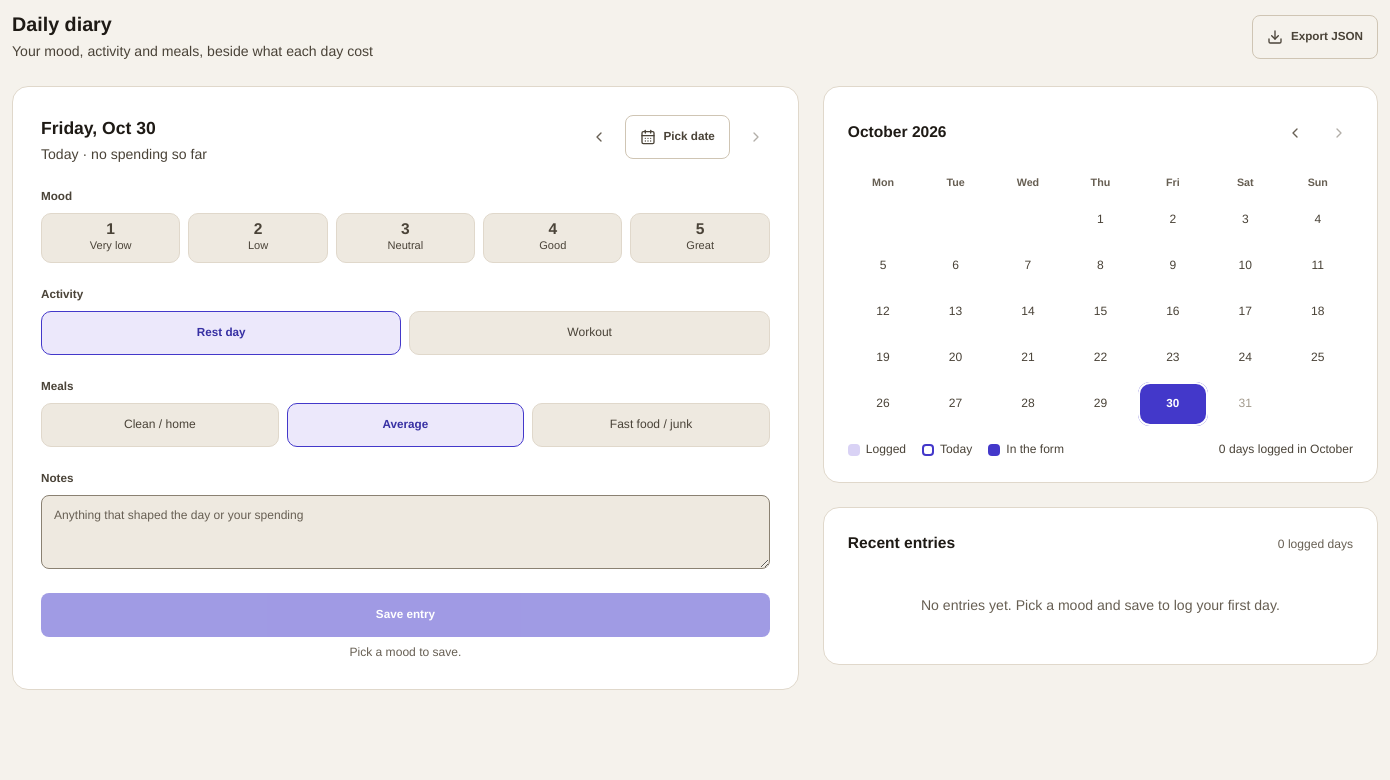
Scenario: the entry form › starts a day with no entry with no mood, a rest day, average meals and an empty note, and waits for a mood
Check: the text box with id "diary-notes-textarea" is empty, box top-left (41, 495), bottom-right (770, 569)
Check: the button with id "diary-save-entry-btn" reads "Save entry", box top-left (41, 593), bottom-right (770, 637)
Click the button with id "diary-mood-btn-4". click: click(553, 238)
box: top-left (483, 213), bottom-right (622, 263)
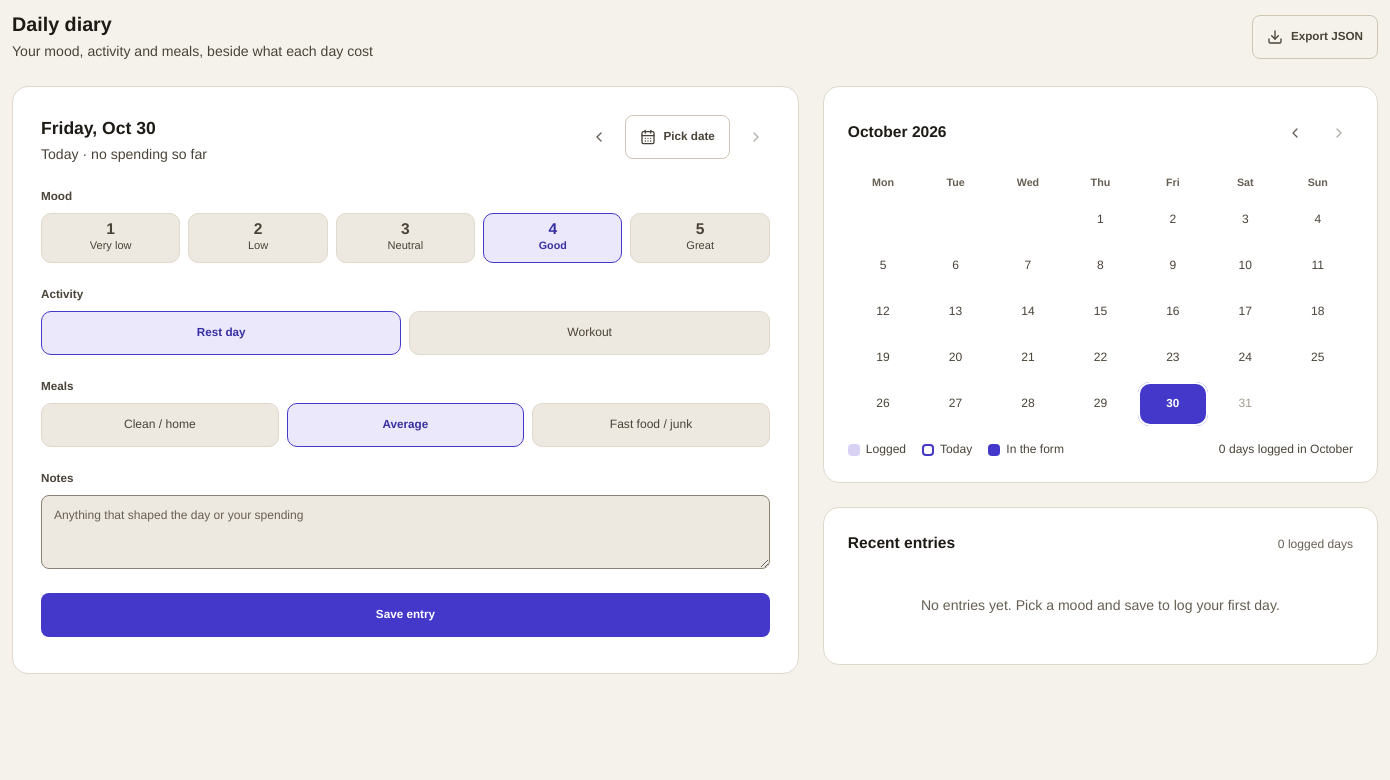
Check: the button with id "diary-save-entry-btn" is enabled, box top-left (41, 593), bottom-right (770, 637)
